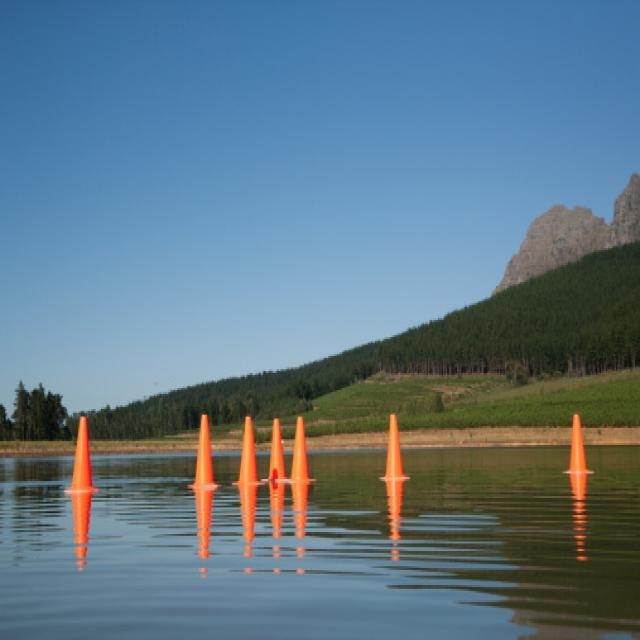cone: (64, 416, 100, 493), (187, 416, 221, 488), (232, 417, 266, 486), (261, 418, 292, 482), (380, 414, 410, 480), (562, 414, 594, 474), (290, 417, 317, 482)
